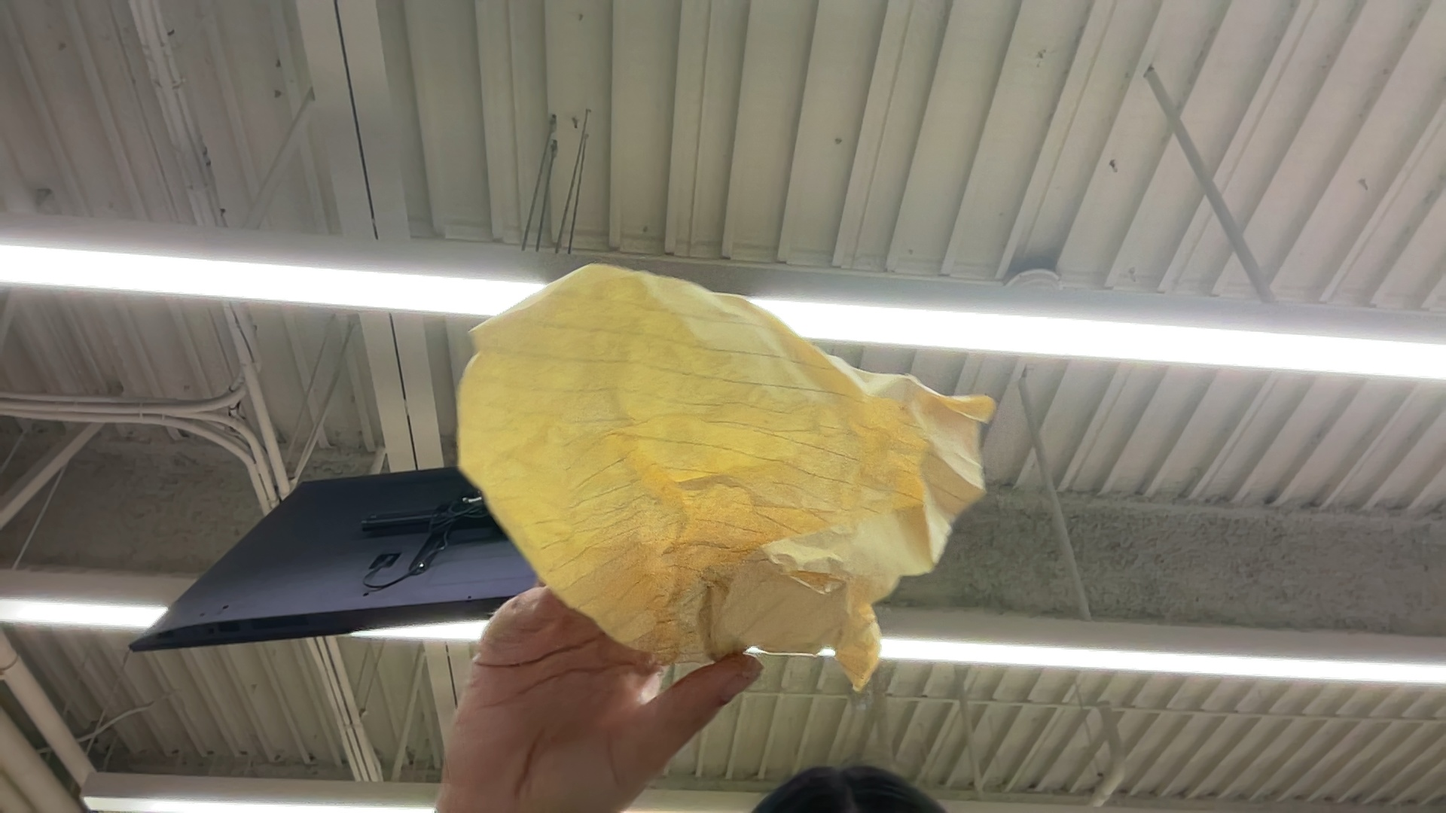Paper: (440, 266, 998, 632)
